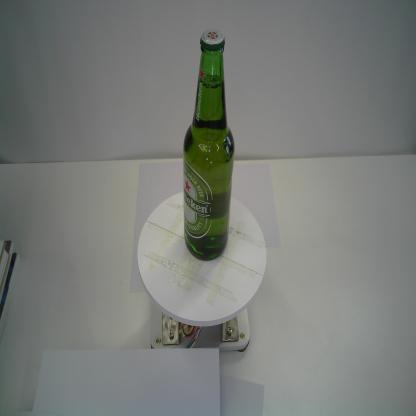Alcohol: (180, 26, 236, 265)
